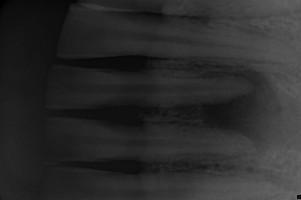Furcation Involvement: (190, 65, 282, 151)
